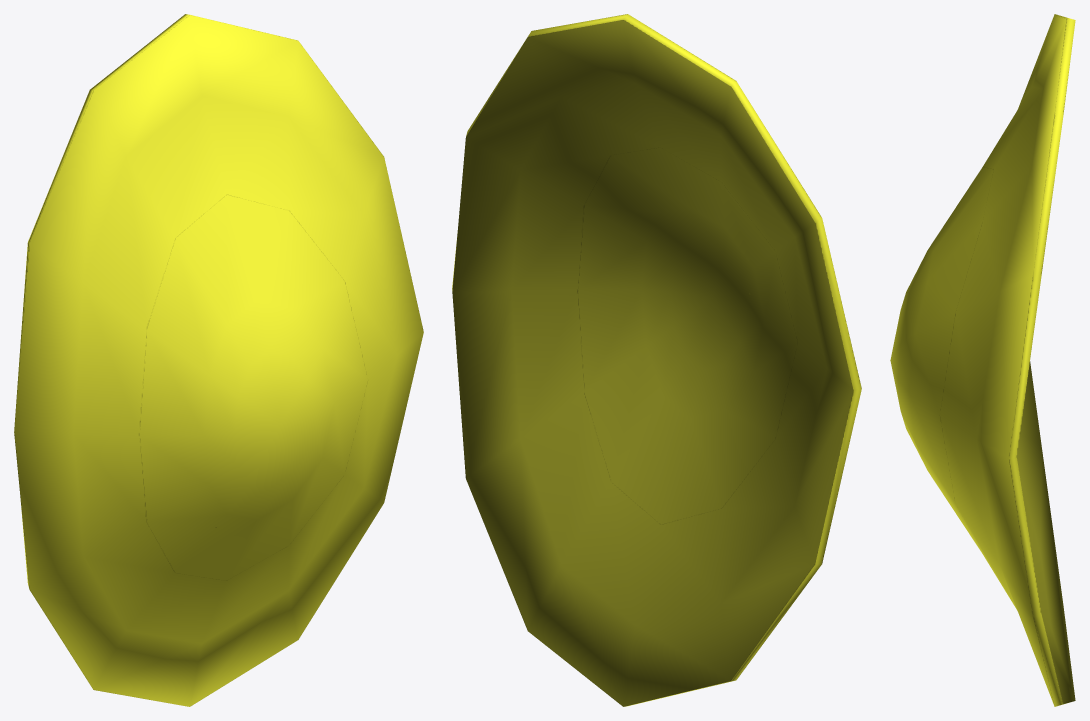
Rendered from scudo.fbx.
The picture shows the model from 3 angles, left to right: view 1: azimuth 30°, elevation 25°; view 2: azimuth 150°, elevation 25°; view 3: azimuth 270°, elevation 25°; orthographic projection.
Parts seen in each view (by area): view 1: scudo; view 2: scudo; view 3: scudo.
Boxes of the visible parts, x1=… form: scudo: x1=14, y1=14, x2=423, y2=706; scudo: x1=452, y1=14, x2=861, y2=706; scudo: x1=890, y1=14, x2=1075, y2=706.
Bounding box in the file's own units: 302 × 487 × 119.
